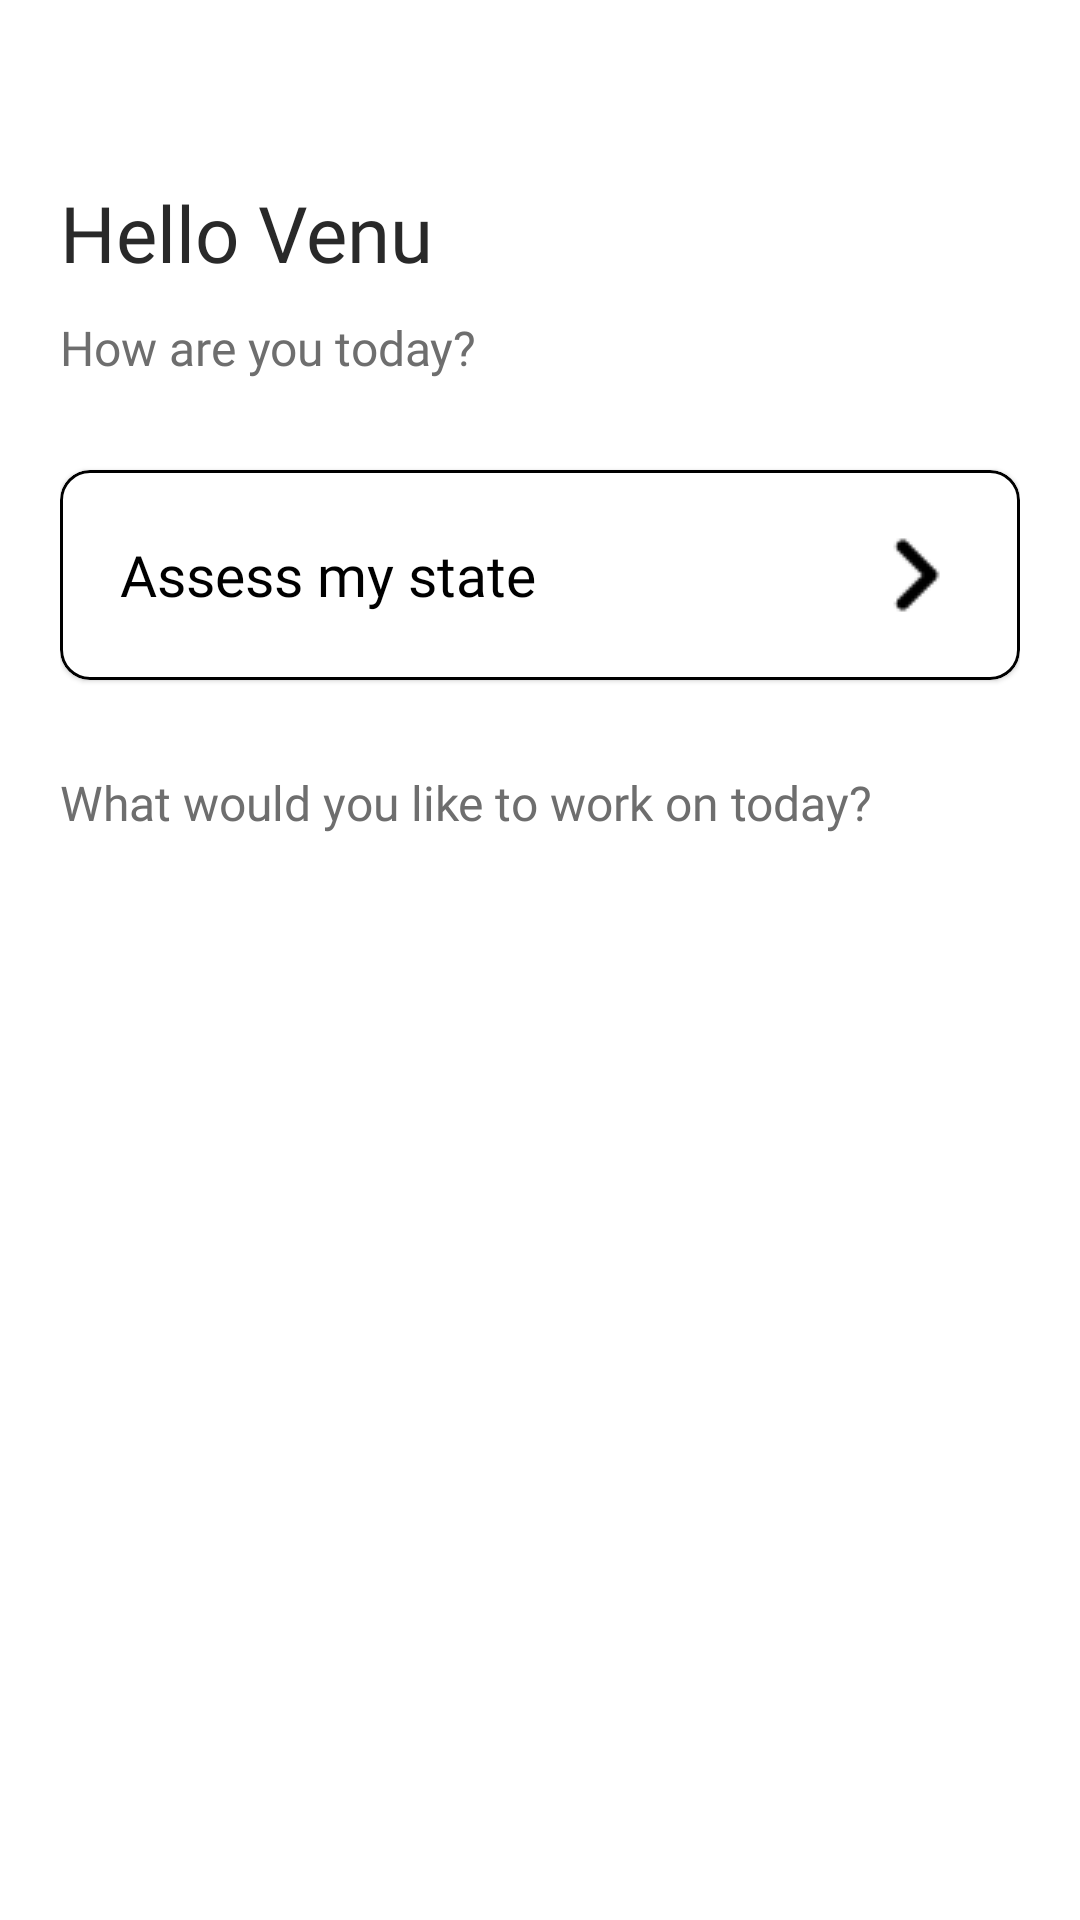

Named icons in this screenshot (1080x1920) and their bounding boxes, (x1, y1, x2, y2):
next: (894, 538, 940, 612)
